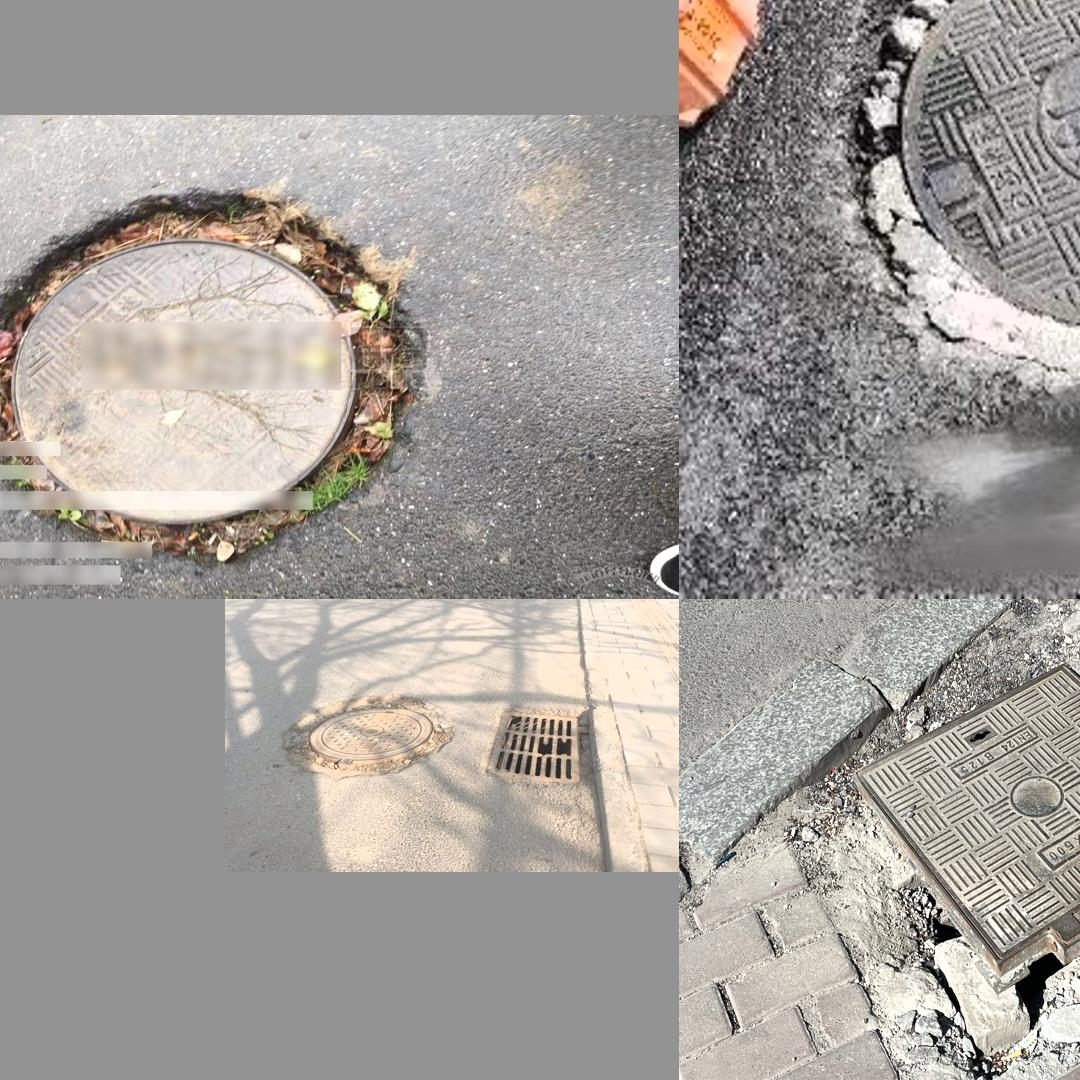circle: (0, 193, 426, 557), (784, 659, 1080, 1077), (850, 0, 1080, 412), (282, 687, 459, 782)
